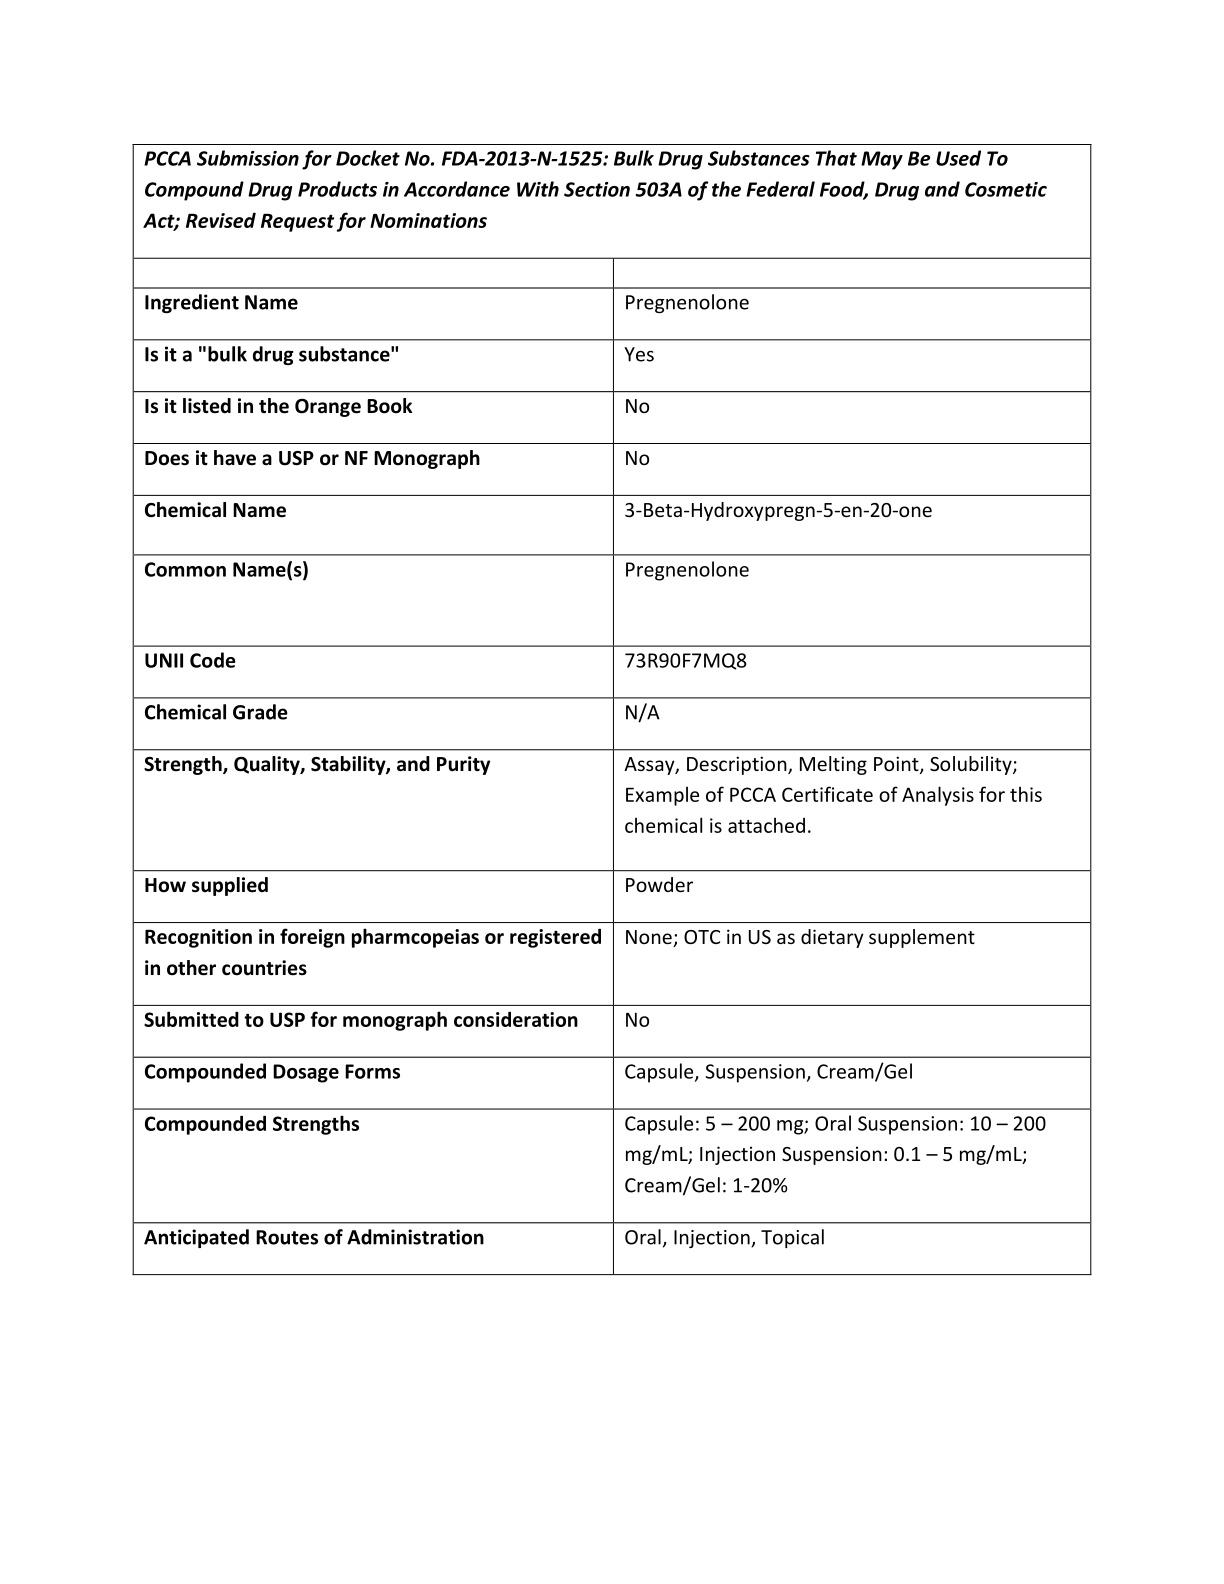merged_cells: (132, 143, 1093, 1275)
